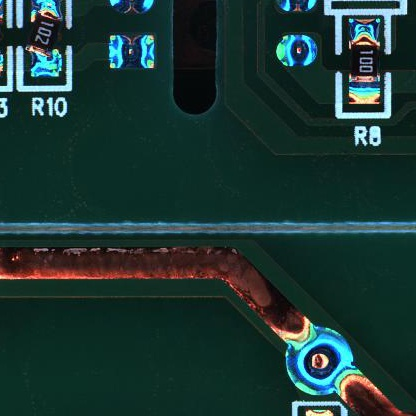spot: (285, 328, 355, 396), (106, 32, 157, 73), (275, 31, 319, 69)
